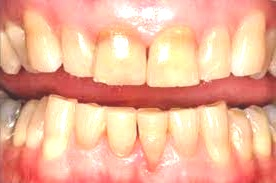Tooth Discoloration: (91, 21, 198, 67)
